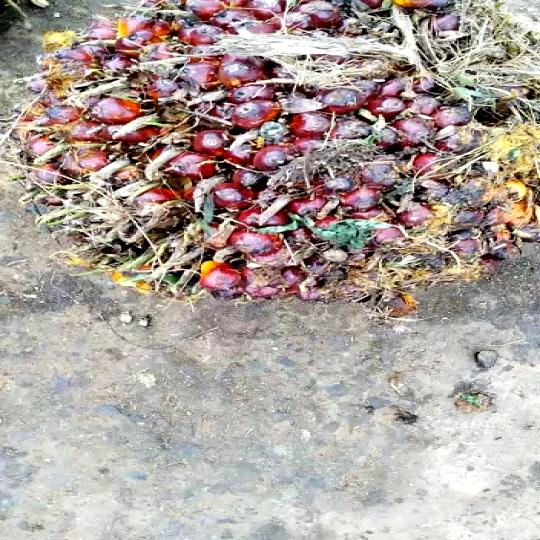masak: (7, 0, 540, 310)
